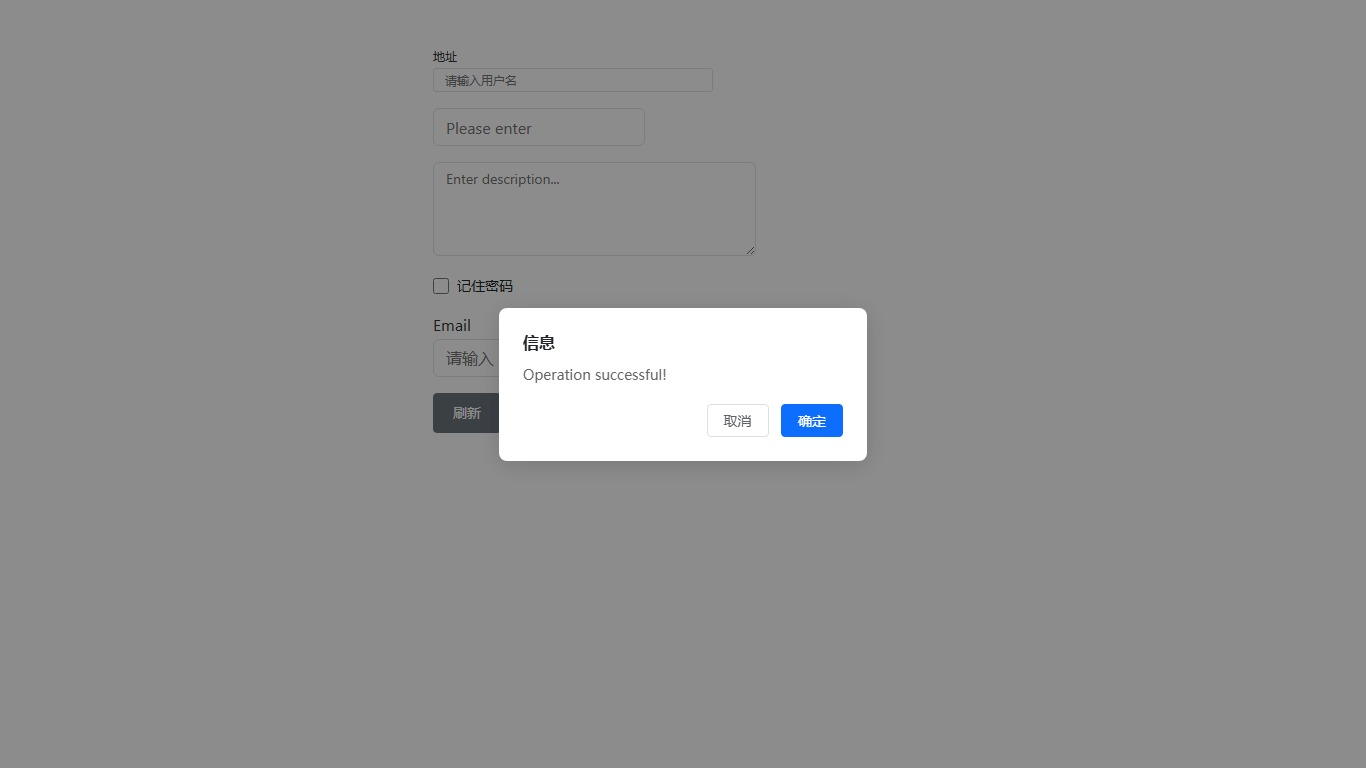button: (433, 392, 501, 432), (707, 403, 769, 437), (781, 403, 843, 437)
checkbox: (433, 278, 449, 294)
icon: (457, 276, 513, 295)
input: (433, 108, 645, 146), (433, 339, 625, 377), (433, 68, 713, 92)
modal: (0, 0, 1366, 768)
radio: (433, 276, 513, 295)
textarea: (433, 162, 756, 256)
